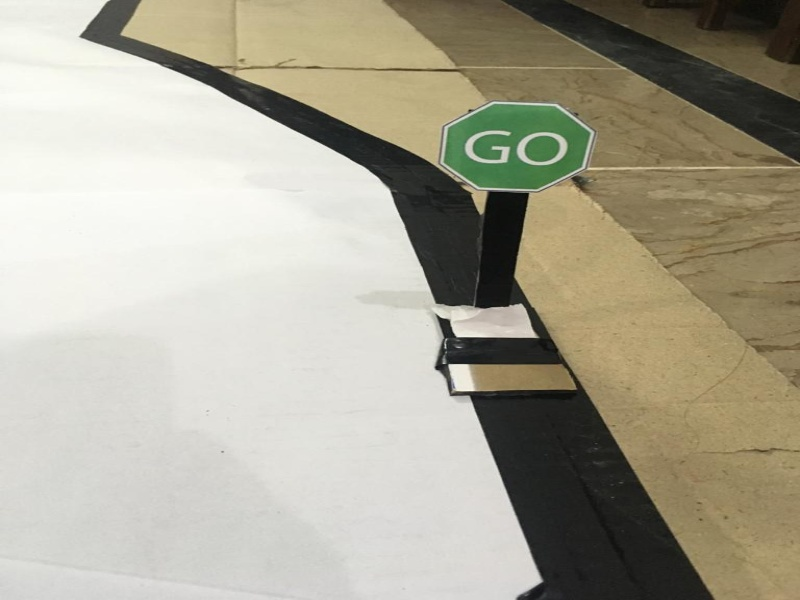Go: (436, 93, 594, 192)
